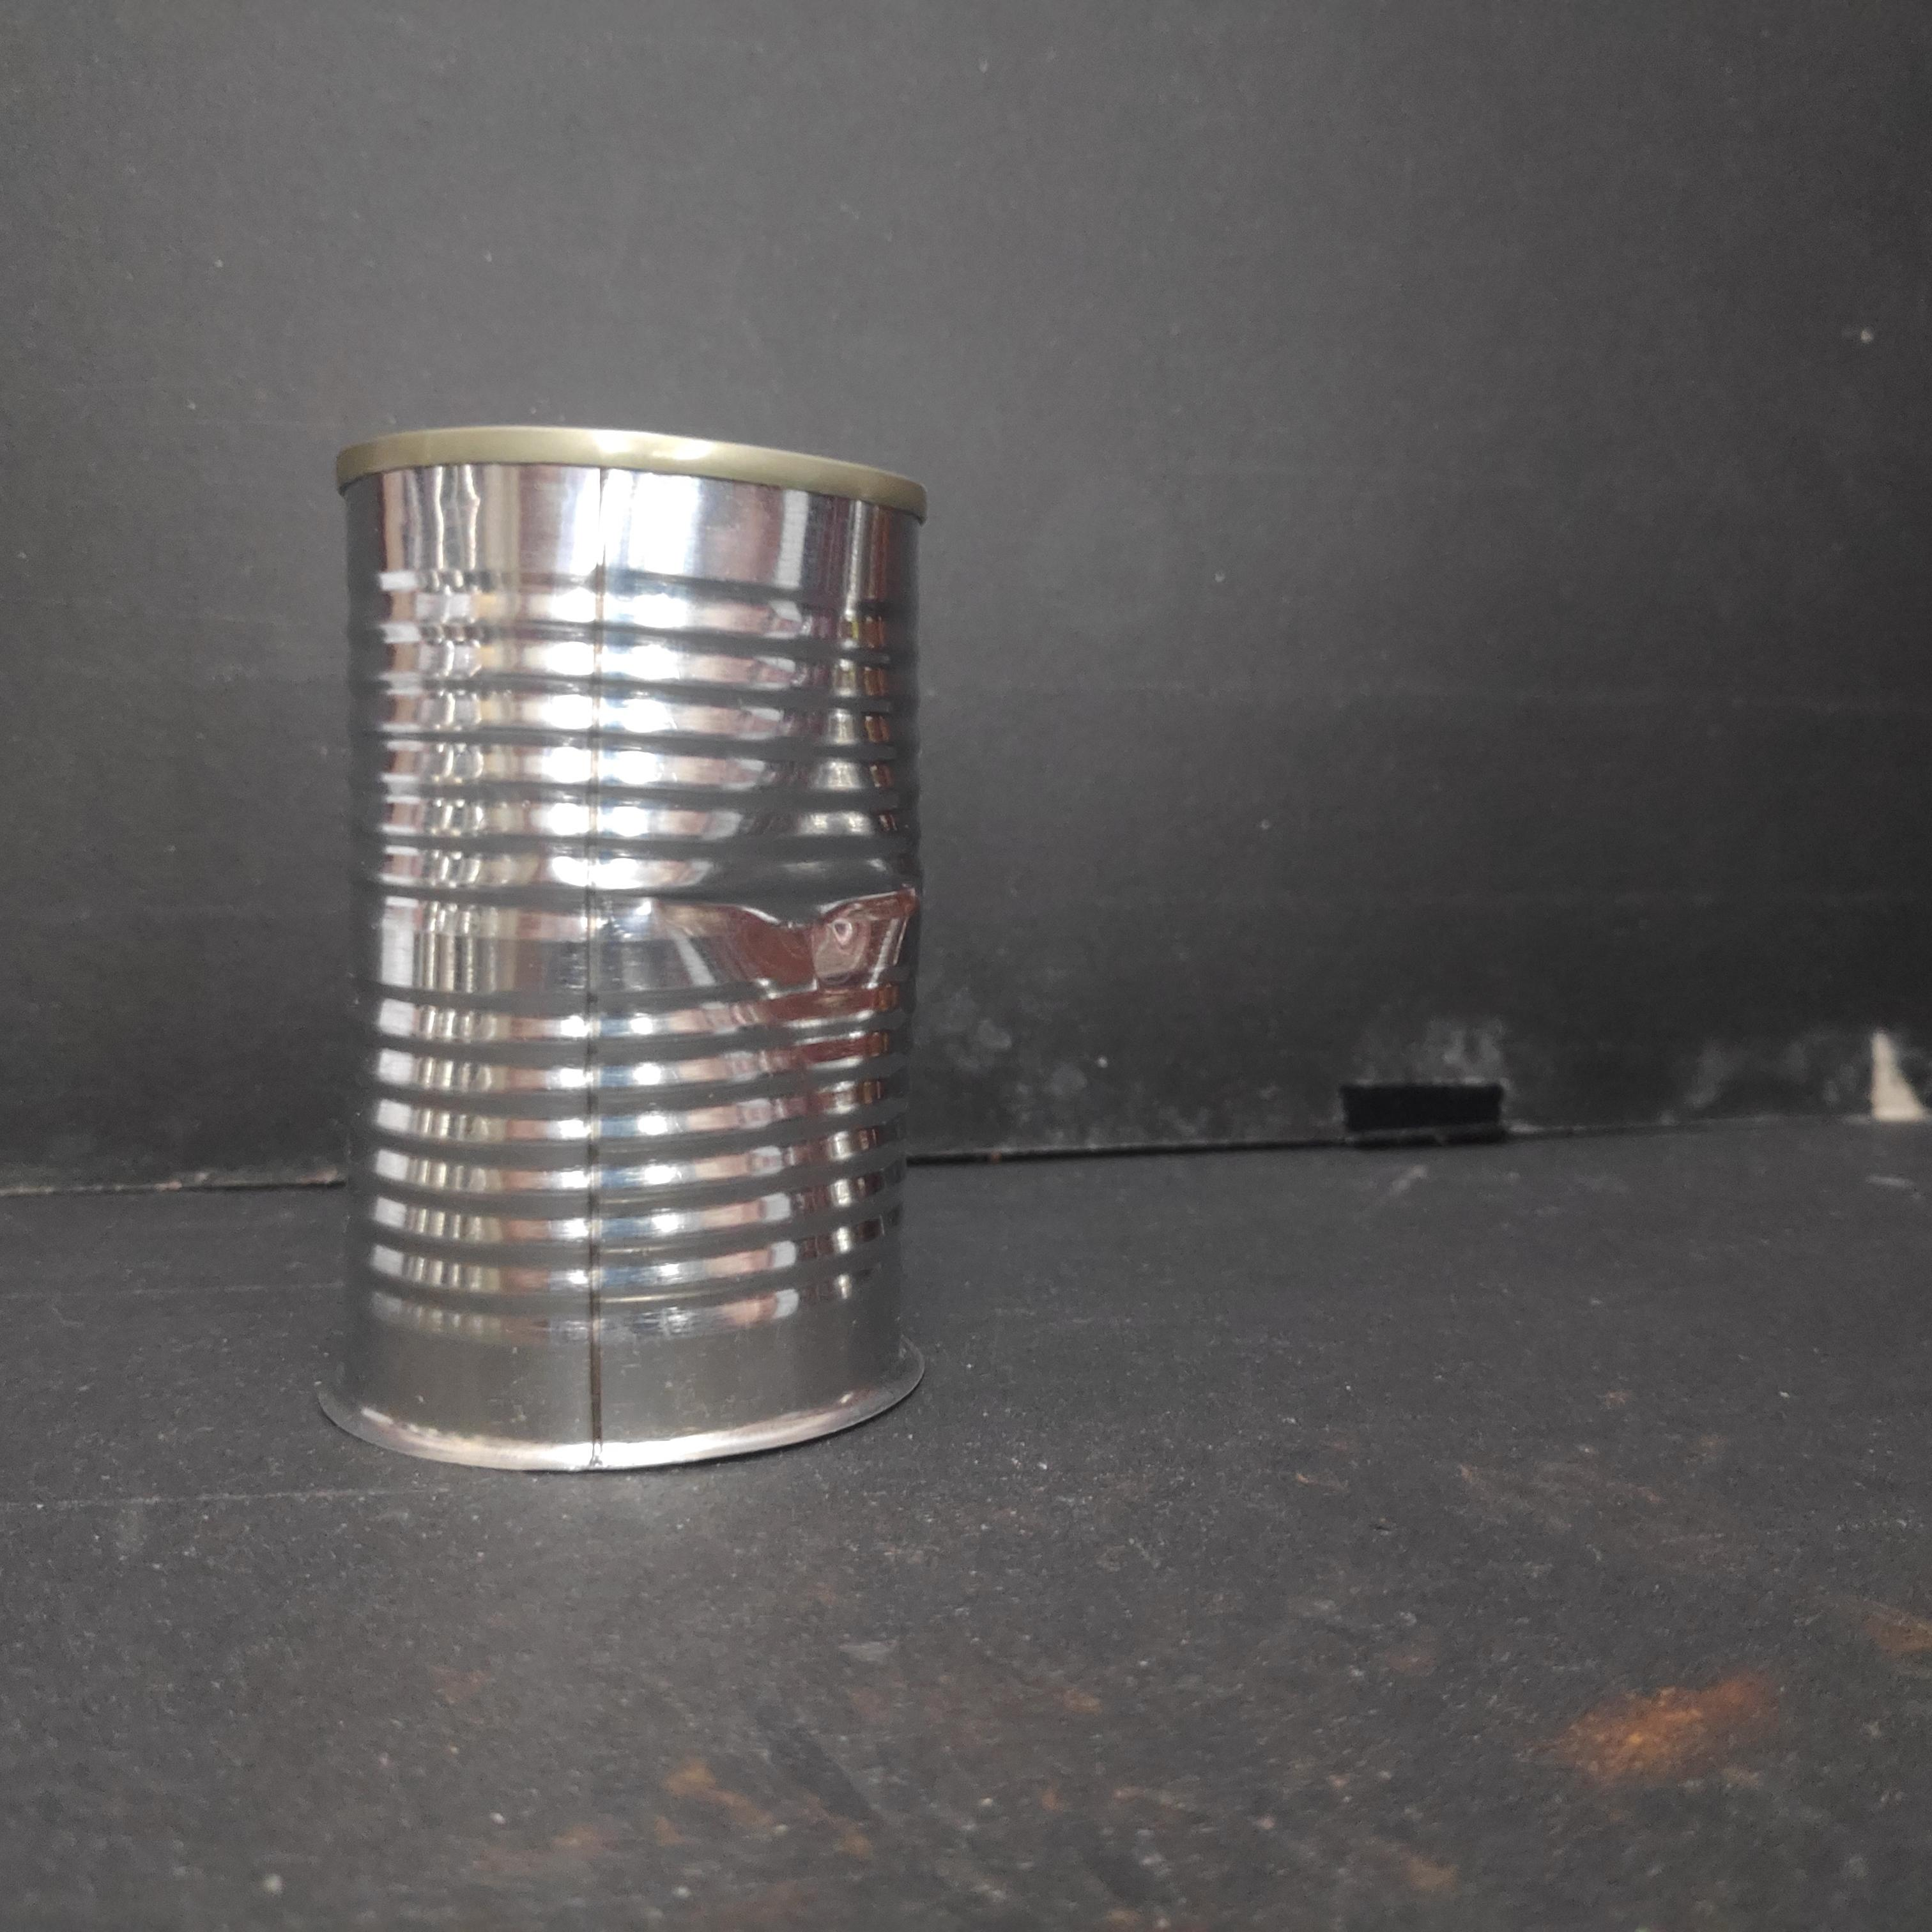Minor Defect: (327, 419, 947, 1484)
